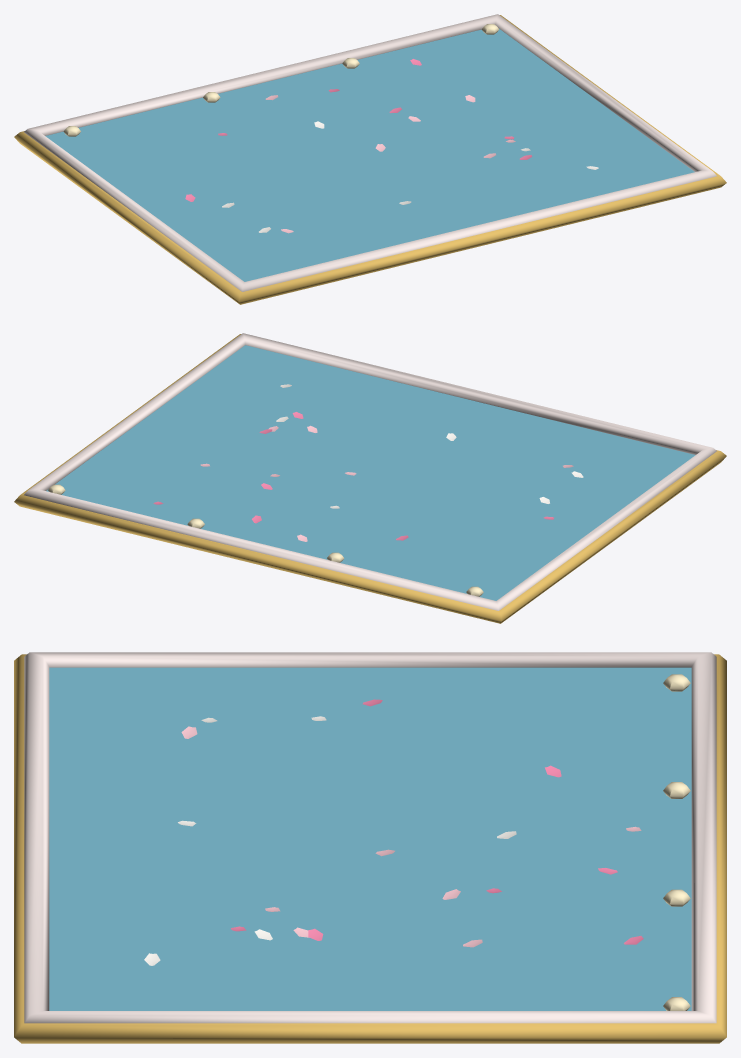
The model's file is bath_sunken.glb.
3 renders of one model, top to bottom at view 1: azimuth 30°, elevation 25°; view 2: azimuth 150°, elevation 25°; view 3: azimuth 270°, elevation 25°, orthographic. The views are drawn at different scales.
Visible parts, largest first — view 1: bath_sunken; view 2: bath_sunken; view 3: bath_sunken.
Boxes of the visible parts, x1,y1,x2,y2 form: bath_sunken: (14, 14, 726, 304); bath_sunken: (14, 333, 726, 623); bath_sunken: (14, 652, 726, 1043).
Size of what is drawn, in the model's own units: 3 by 0.1 by 2.4.
